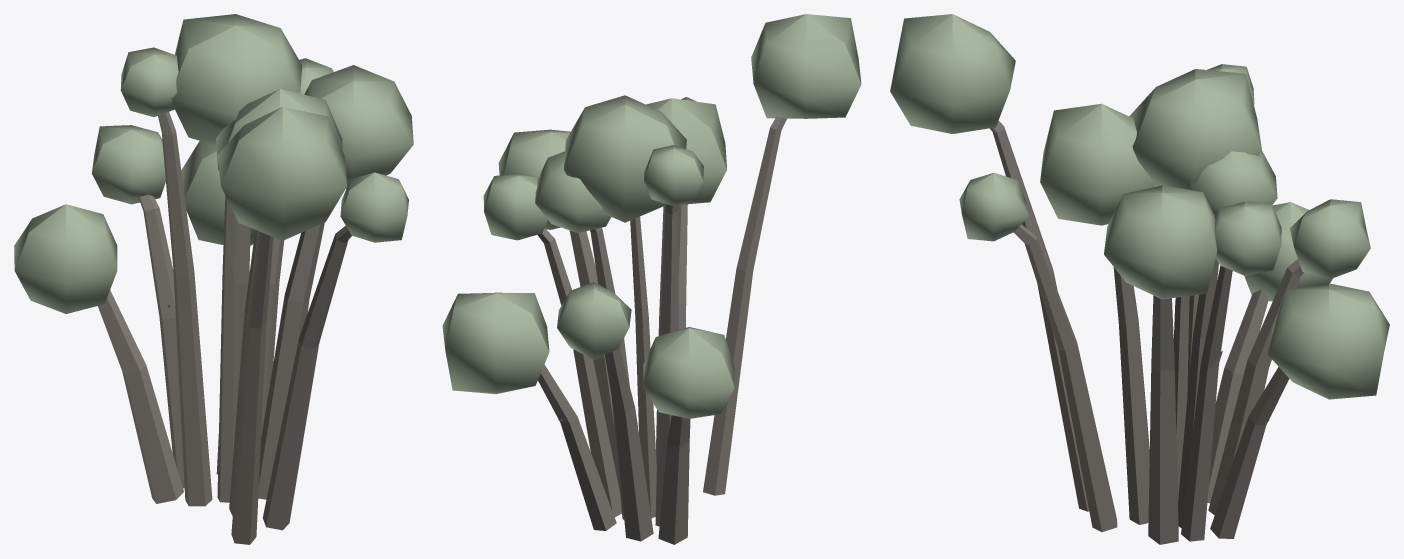
Rendered from dense-temperate-forest-flora-blackthorn-bush-936ae742__28362.glb.
3 renders of one model, left to right at view 1: azimuth 30°, elevation 25°; view 2: azimuth 150°, elevation 25°; view 3: azimuth 270°, elevation 25°, orthographic. The views are drawn at different scales.
Visible parts, largest first — view 1: blackthorn-bush; view 2: blackthorn-bush; view 3: blackthorn-bush.
Part boxes in pixels (x1,y1,x2,y2): blackthorn-bush: [14, 14, 413, 544]; blackthorn-bush: [442, 14, 861, 544]; blackthorn-bush: [890, 14, 1389, 544].
Bounding box in the file's own units: 1.88 × 2.69 × 2.53.
